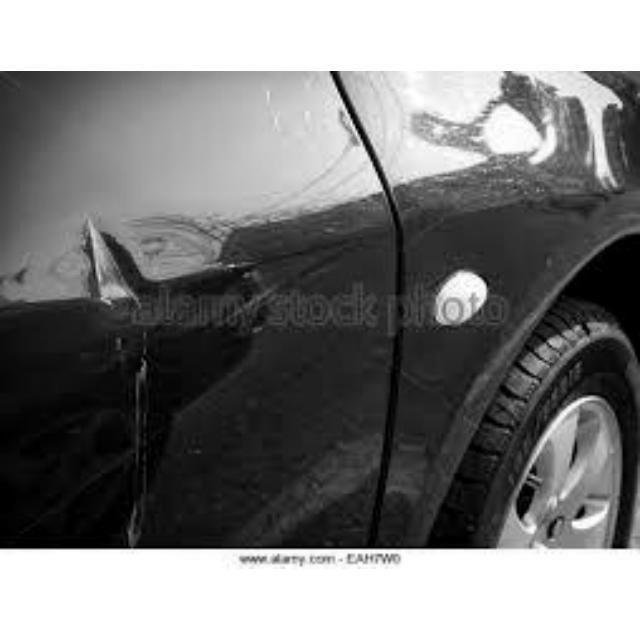doorouter-dent: (8, 132, 403, 555)
